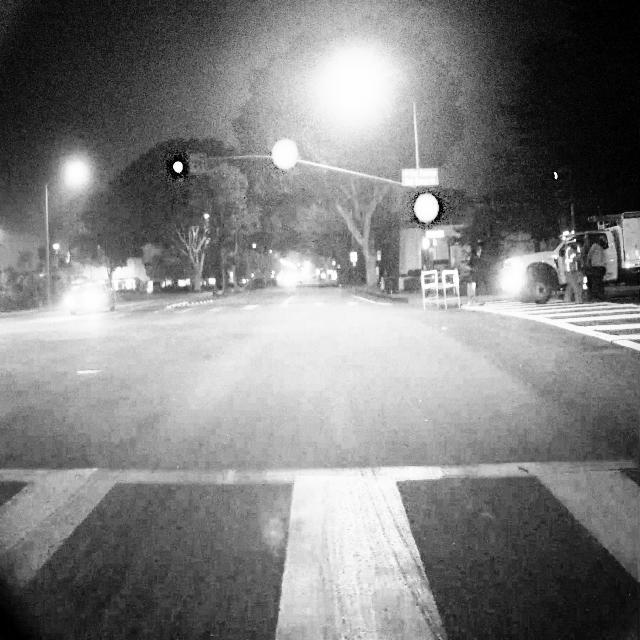Truck: (500, 211, 640, 304)
